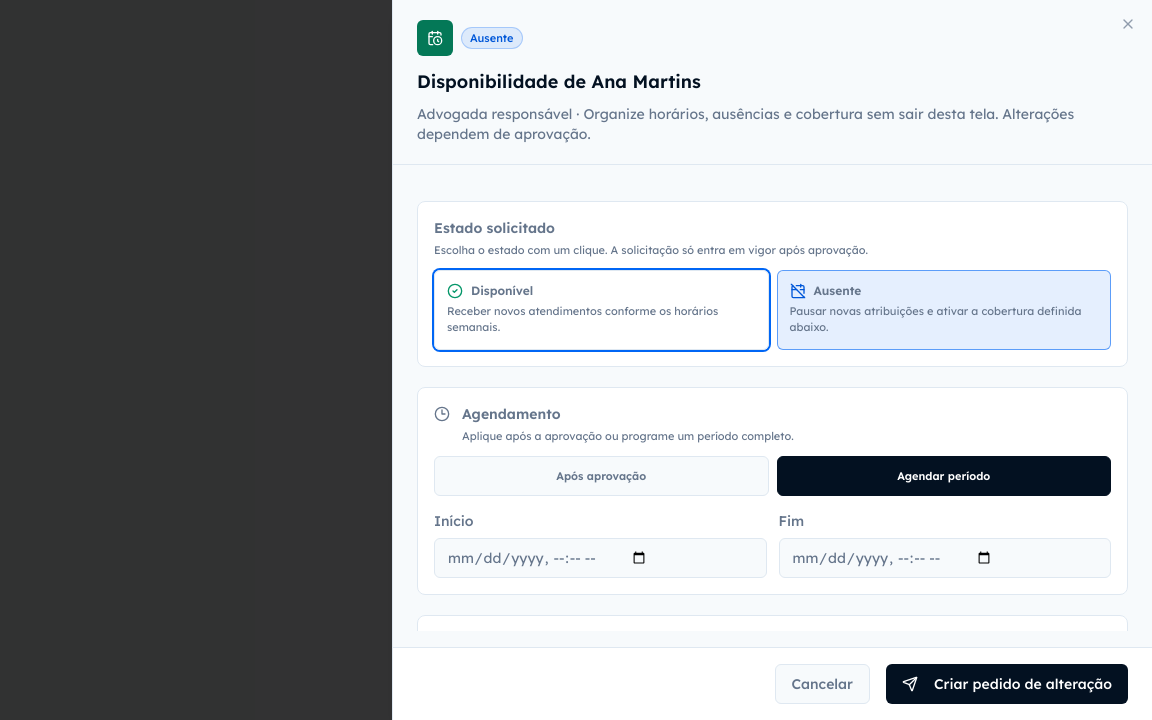
StaffAvailabilitySheet › bloqueia pedidos agendados incompletos com um resumo acessível
Click the button "Criar pedido de alteração". click: {"x": 1007, "y": 684}
box: [886,664,1128,704]
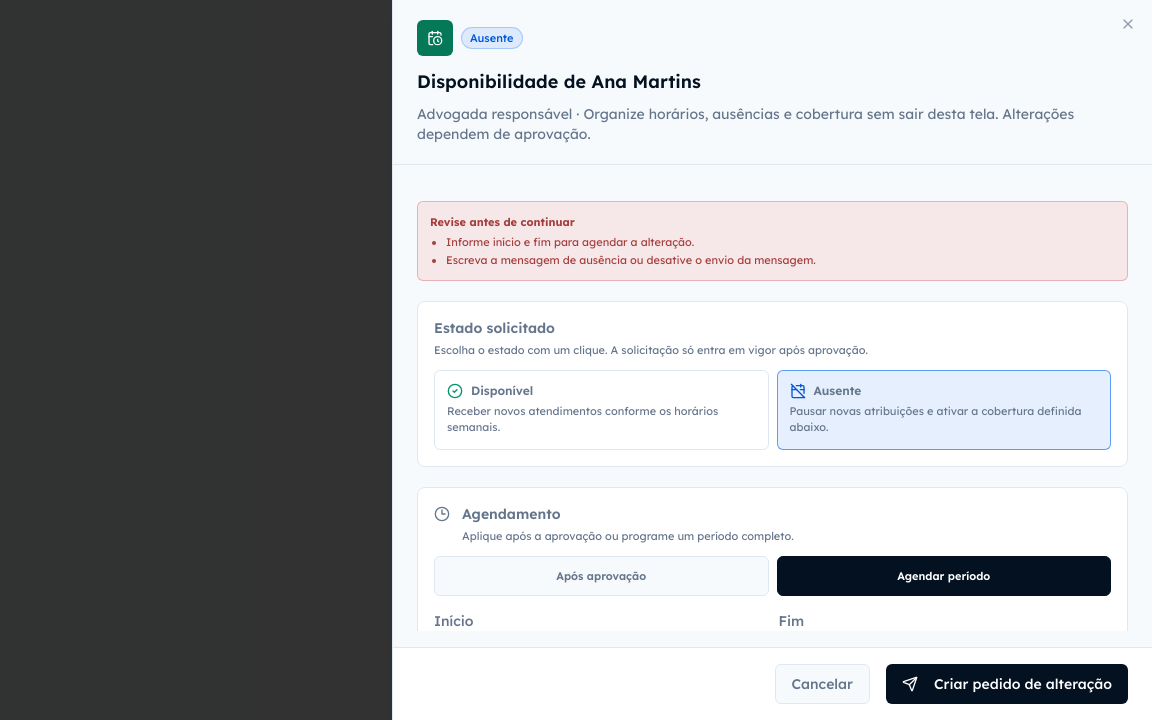
Expected: the message shows "Informe início e fim para agendar a alteração.", [446,235,694,249]
Expected: the message shows "Escreva a mensagem de ausência", [446,253,816,267]
